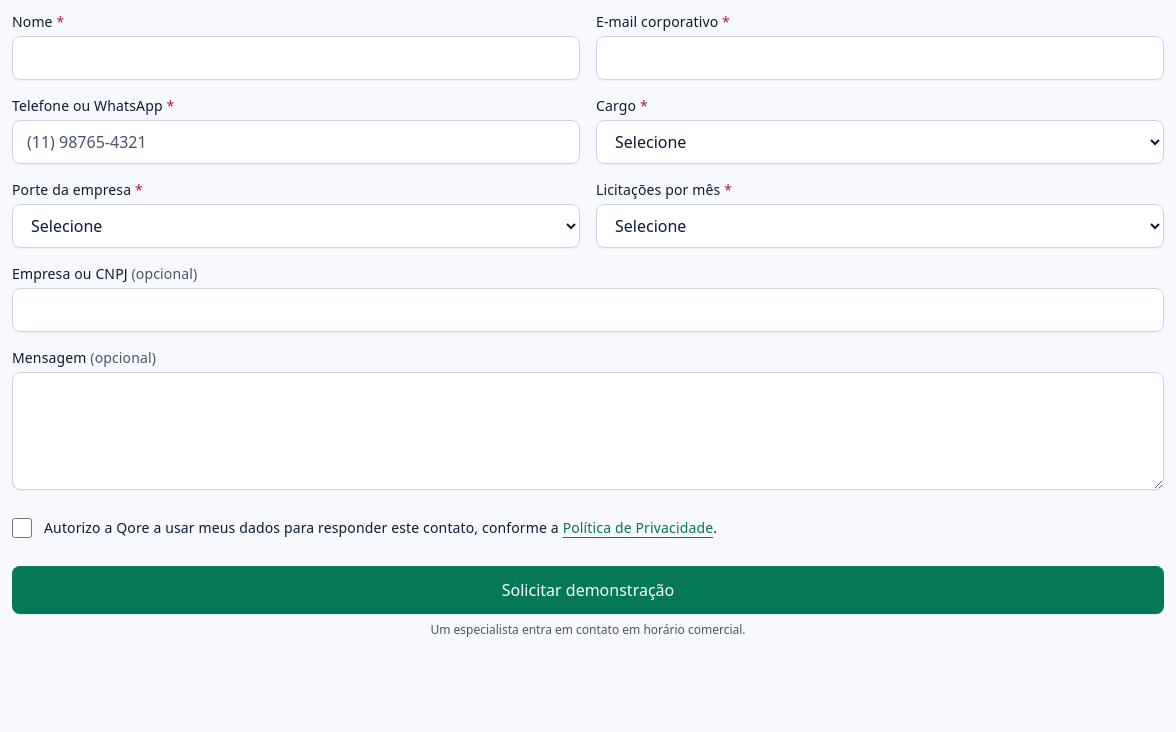
Test: ContactForm › masks the phone while typing
Type "11987654321" into the field labelled "Telefone ou WhatsApp *".
click(296, 142); type("11987654321")  # box x1=12 y1=120 x2=580 y2=164
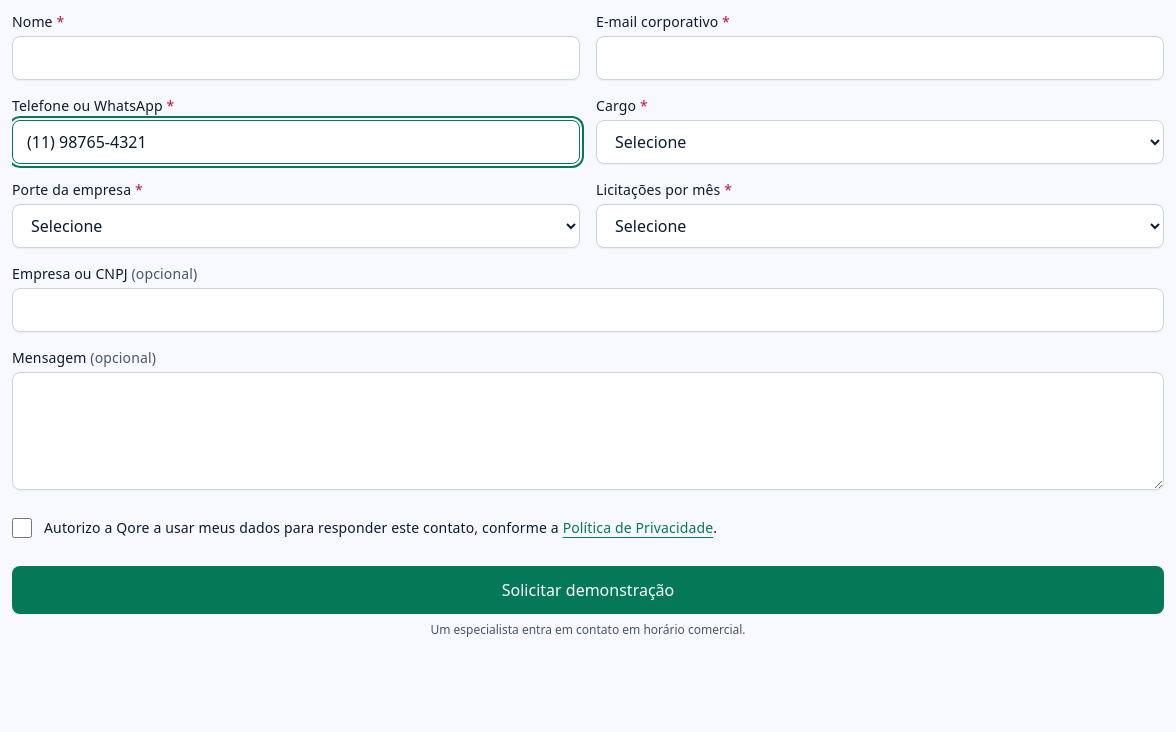
Result: the field labelled "Telefone ou WhatsApp *" holds "(11) 98765-4321" at x1=12 y1=120 x2=580 y2=164
